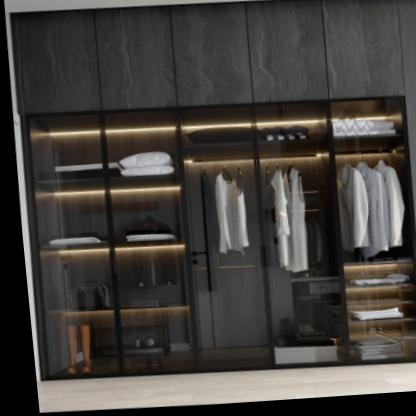Transparent Closet: (20, 22, 416, 368)
